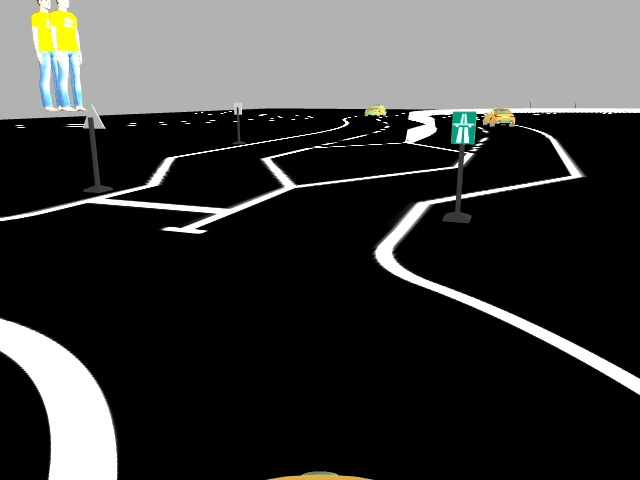HighwayEntrance: (449, 109, 477, 146)
